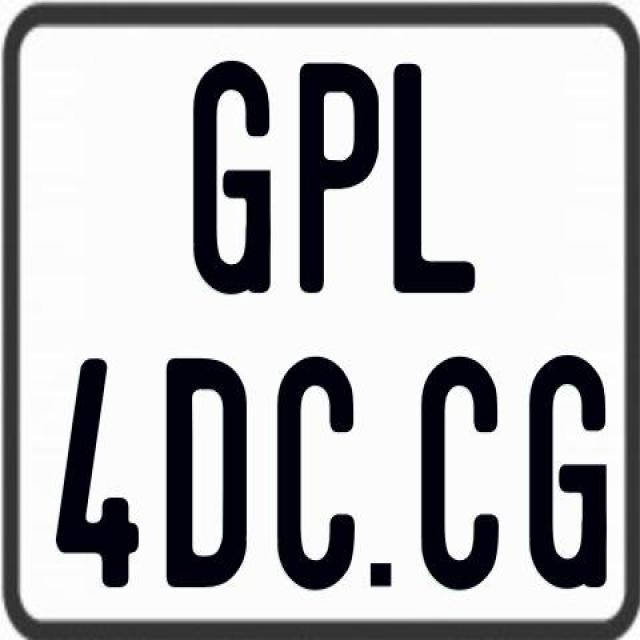4: (52, 354, 135, 586)
C: (421, 356, 499, 598), (275, 353, 353, 592)
D: (166, 357, 248, 587)
G: (190, 56, 274, 296), (526, 351, 606, 594)
L: (390, 64, 474, 299)
P: (299, 61, 382, 293)
